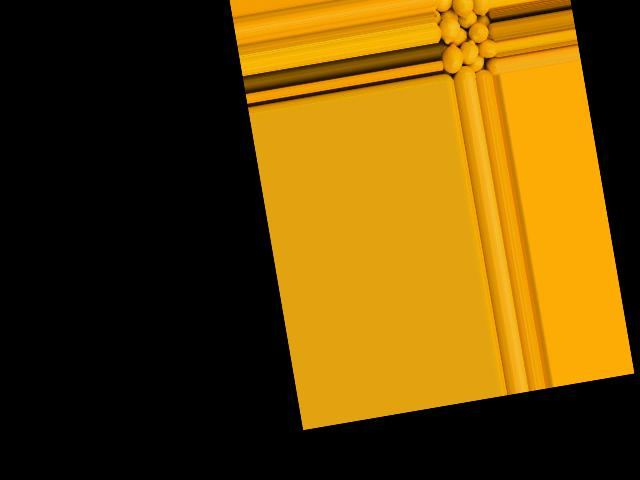lemon: (464, 21, 490, 43)
